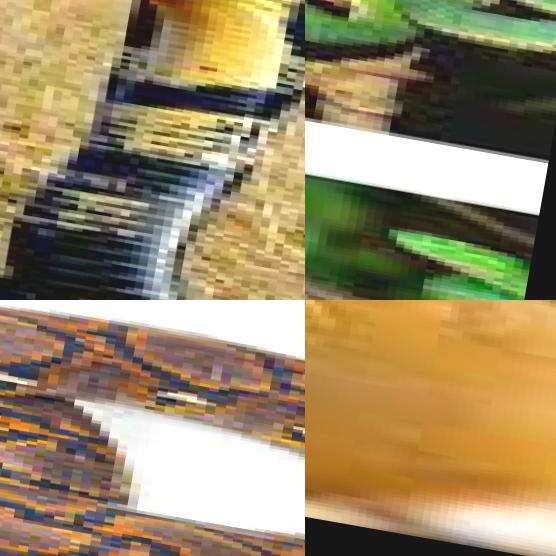snake: (0, 0, 305, 300), (0, 300, 305, 556), (305, 300, 556, 556)
